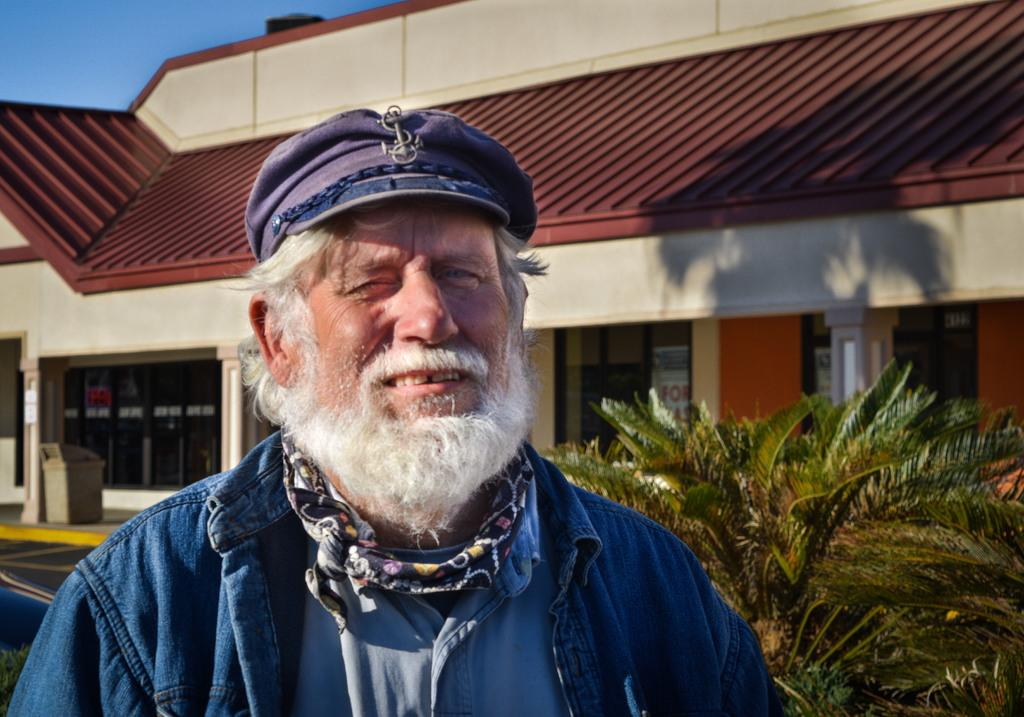Hat: (244, 103, 536, 267)
